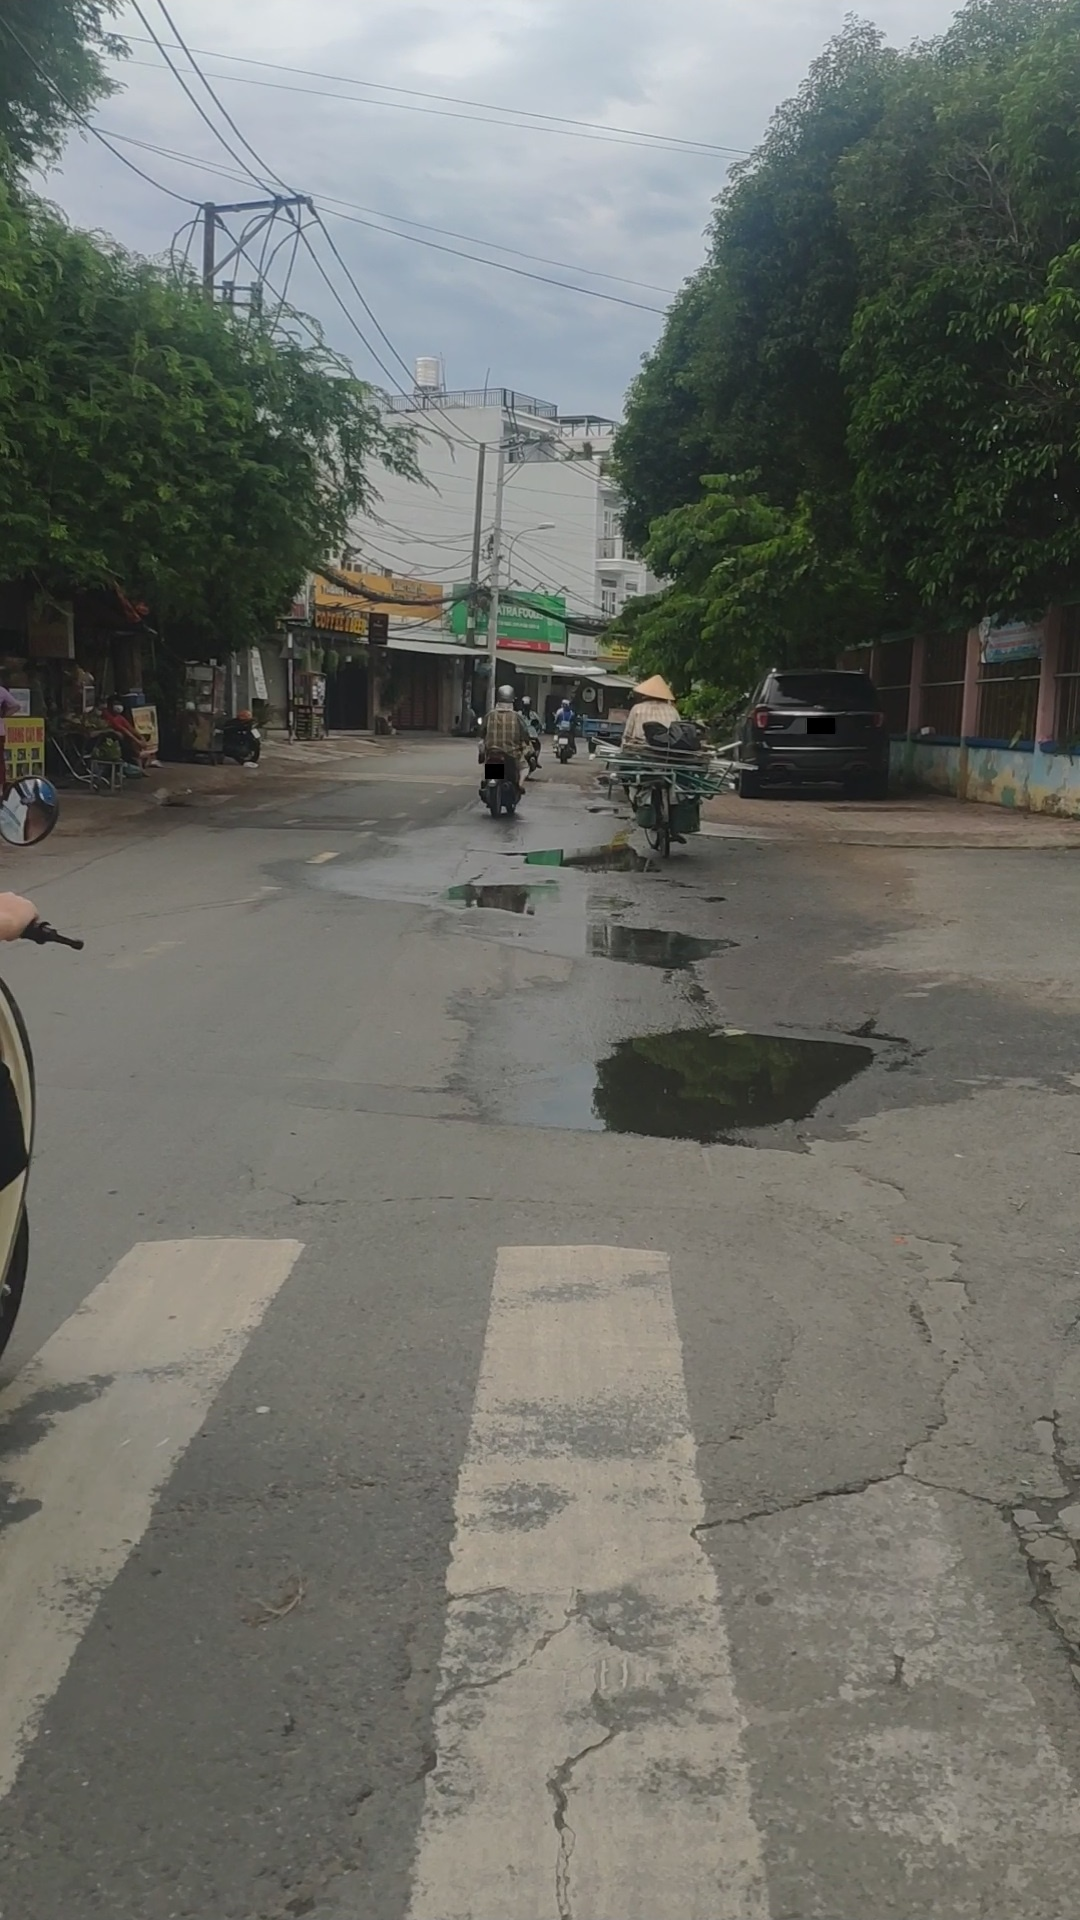hole: (580, 1021, 882, 1145), (477, 916, 745, 975), (427, 880, 640, 916), (501, 833, 655, 876)
